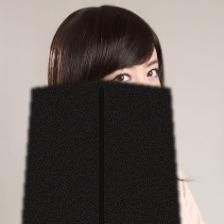Cadar_Niqab: (22, 1, 180, 224)
